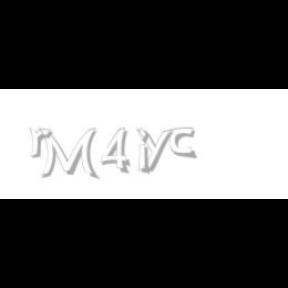4: (100, 128, 130, 174)
M: (38, 128, 97, 180)
c: (170, 128, 198, 160)
i: (137, 128, 153, 176)
r: (29, 128, 56, 158)
y: (136, 128, 176, 172)
